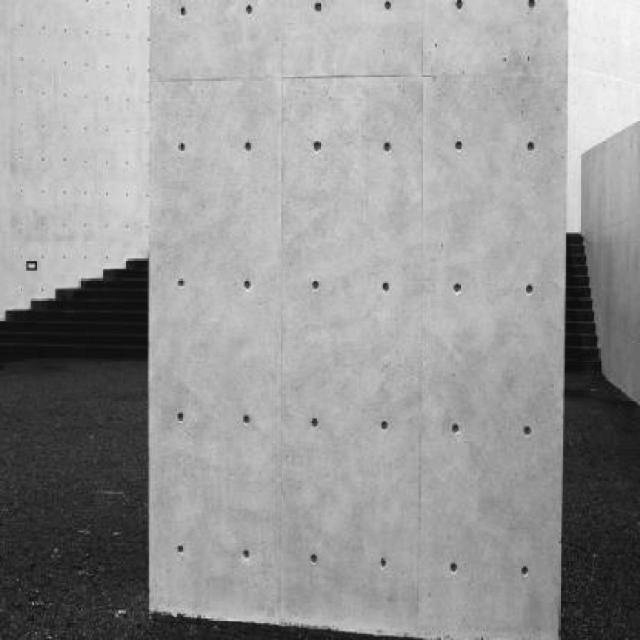stair: (0, 255, 149, 363), (565, 230, 614, 402)
